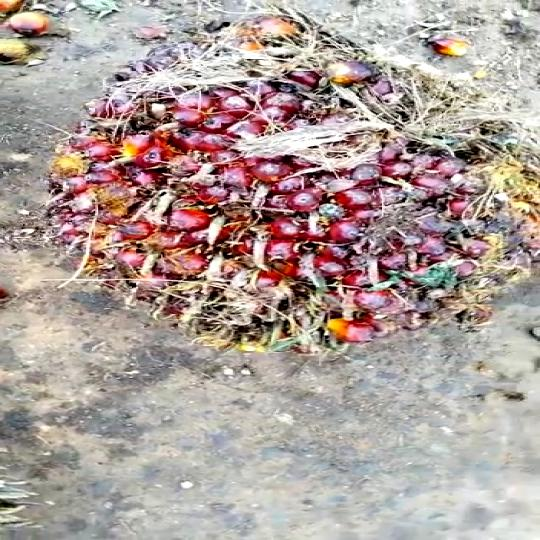masak: (35, 61, 540, 344)
